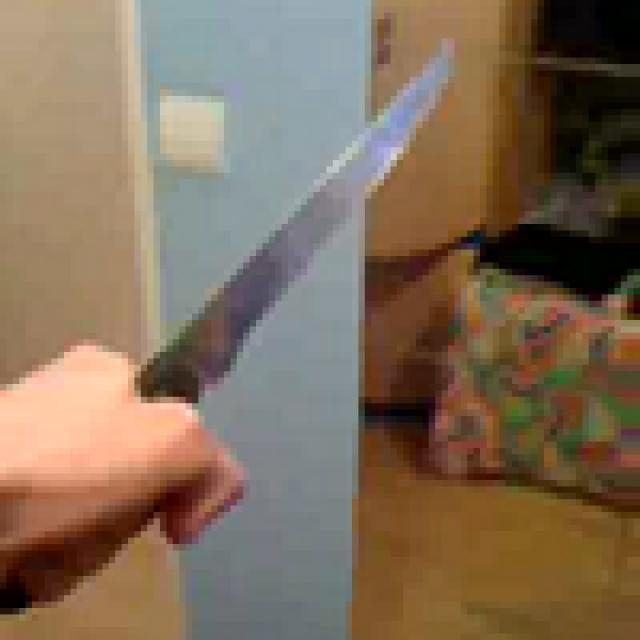knife: (64, 19, 506, 557)
